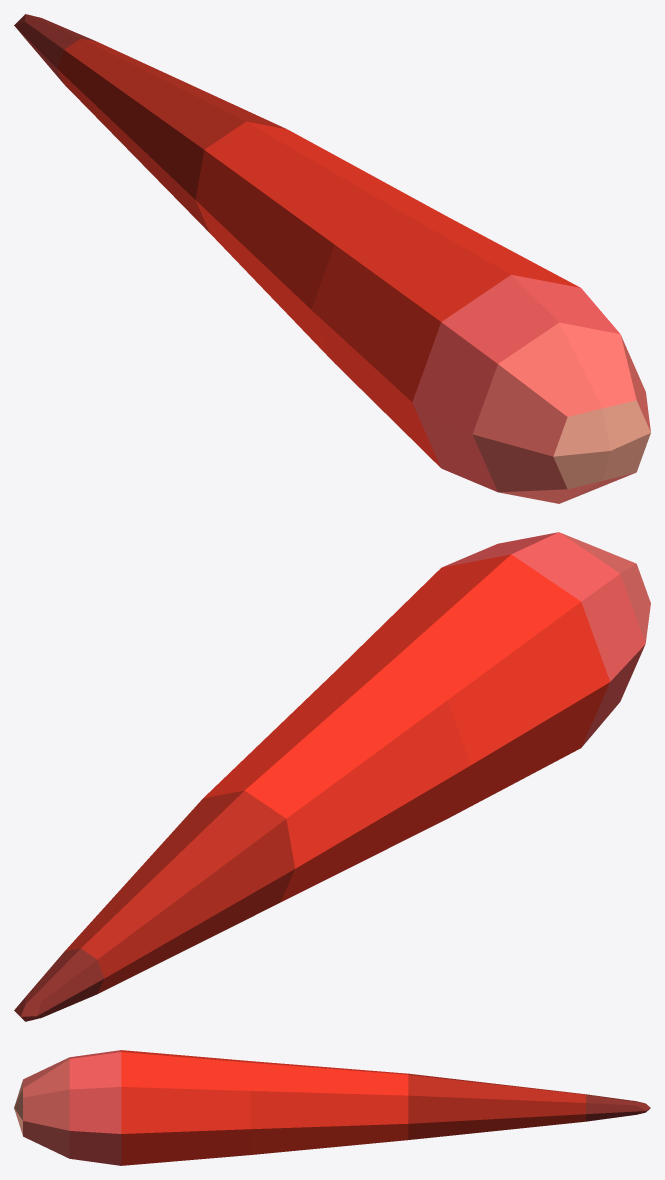
File: VR Enemy Lazer Shoot.fbx
3 renders of one model, top to bottom at view 1: azimuth 30°, elevation 25°; view 2: azimuth 150°, elevation 25°; view 3: azimuth 270°, elevation 25°, orthographic. The views are drawn at different scales.
Parts seen in each view (by area): view 1: Lazer Shoot; view 2: Lazer Shoot; view 3: Lazer Shoot.
Boxes of the visible parts, x1,y1,x2,y2 form: Lazer Shoot: (14,14,650,503); Lazer Shoot: (14,532,650,1021); Lazer Shoot: (14,1050,650,1165).
Bounding box in the file's own units: 66.79 × 66.79 × 345.
